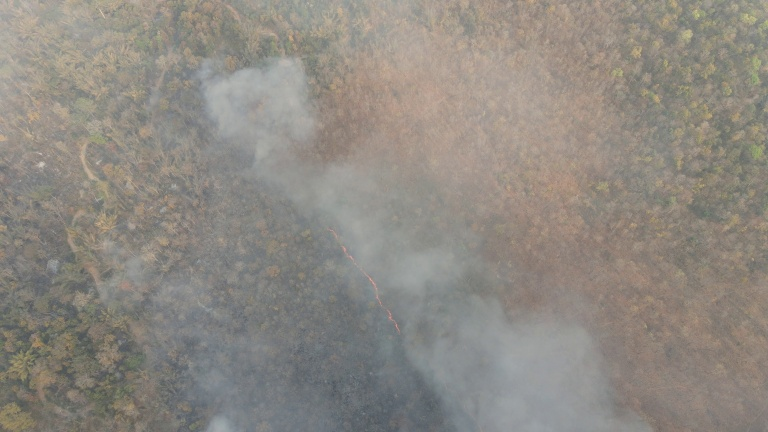fire: (328, 223, 403, 340)
smoke: (415, 293, 626, 432), (206, 64, 375, 212), (334, 205, 455, 288)
